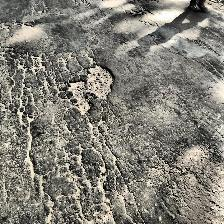pothole: (66, 62, 116, 116)
